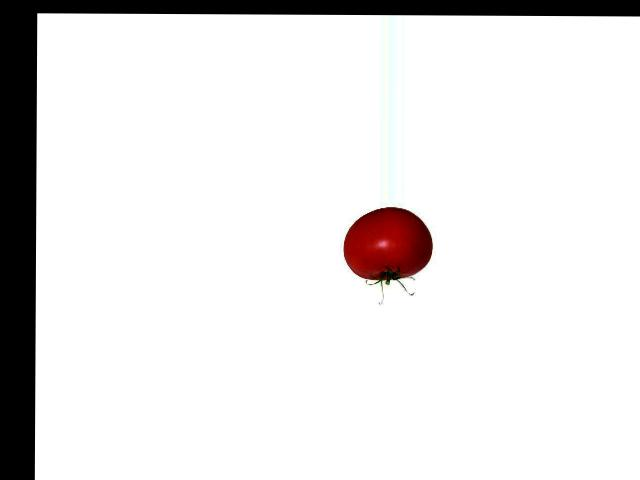tomato: (343, 207, 431, 280)
